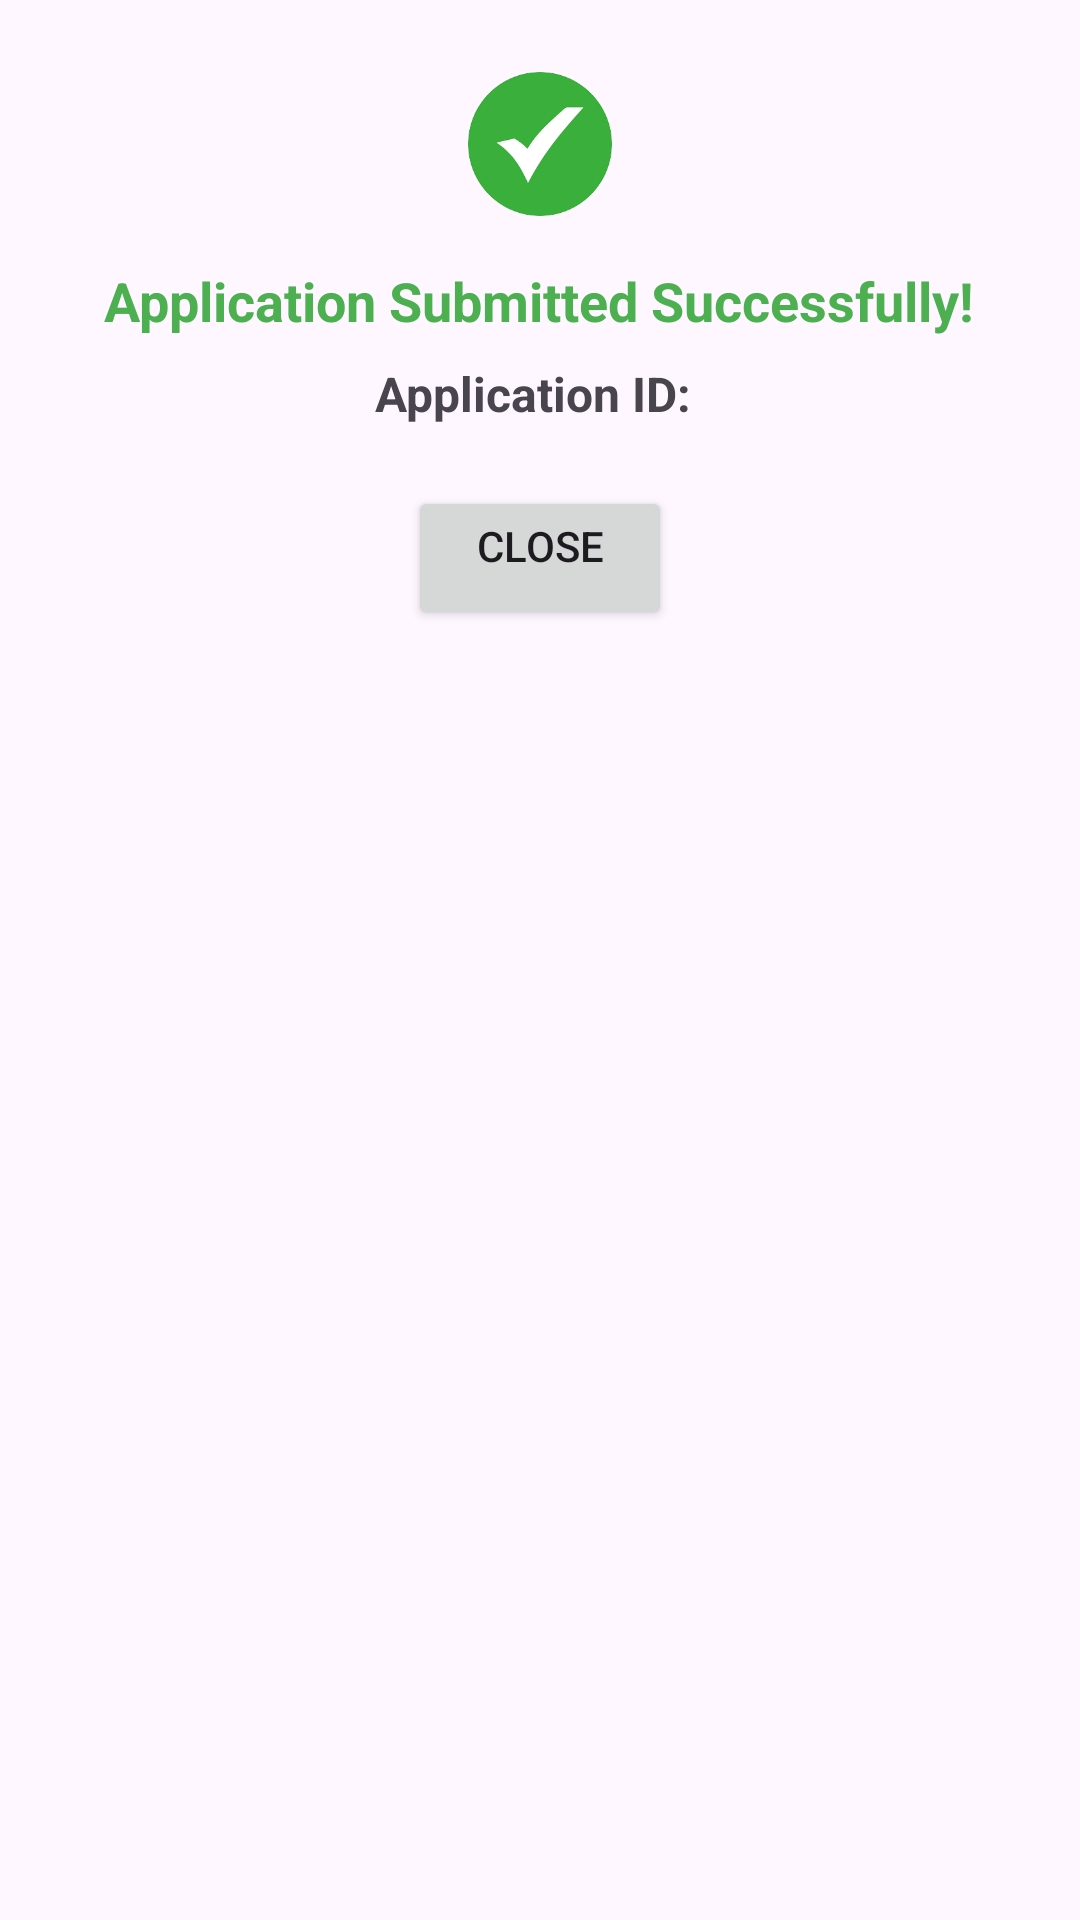

Icons on this 1080x1920 Android screen, each with the point to tap as (x=x, y=y):
check: (x=540, y=144)
